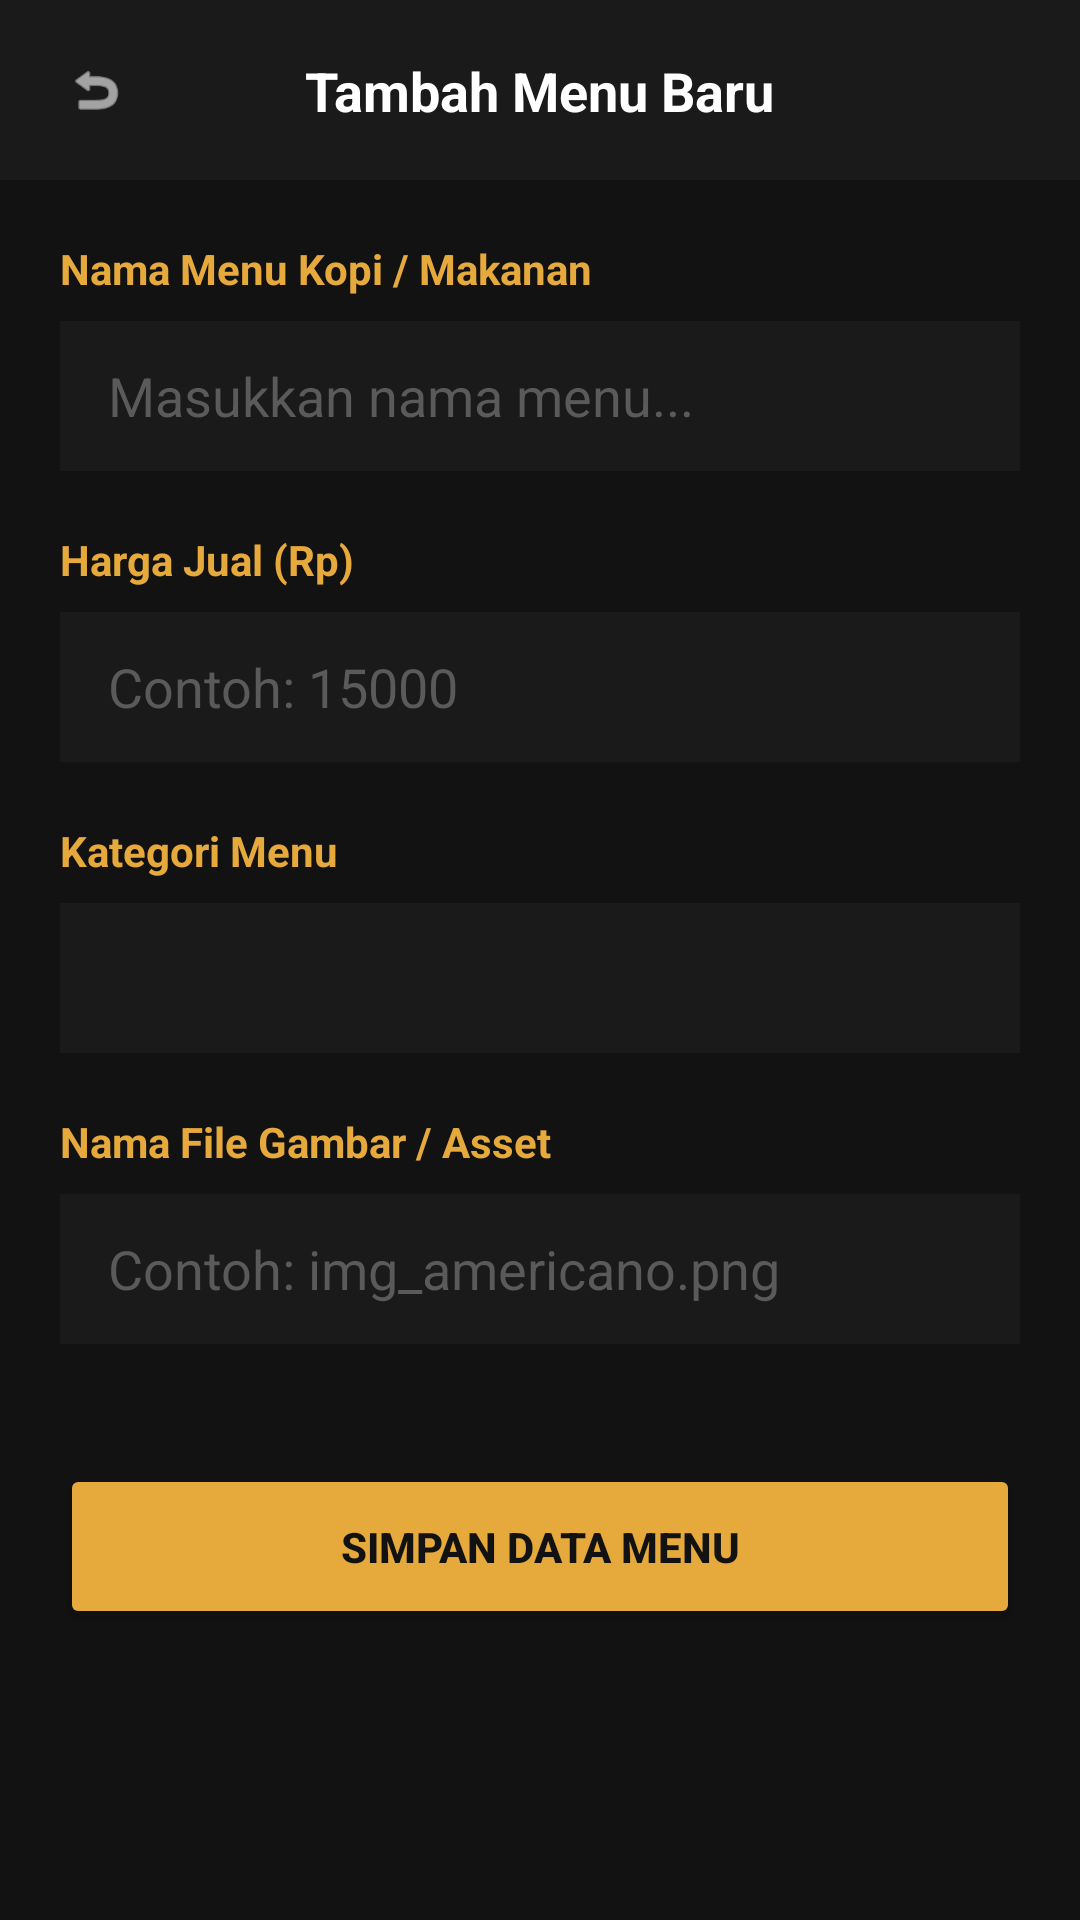

Icon click points for this 1080px×1920px phone screenshot, format [x,y]:
revert: [96,90]
